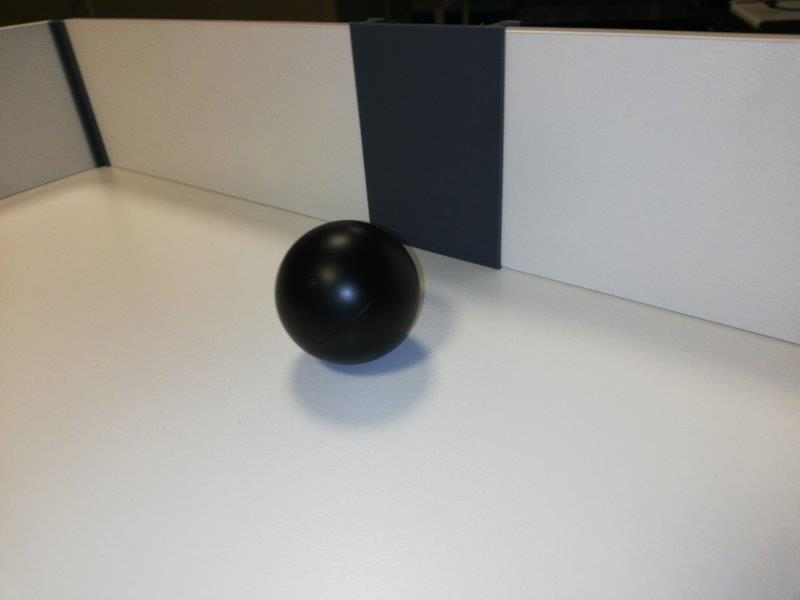nera: (275, 219, 419, 366)
